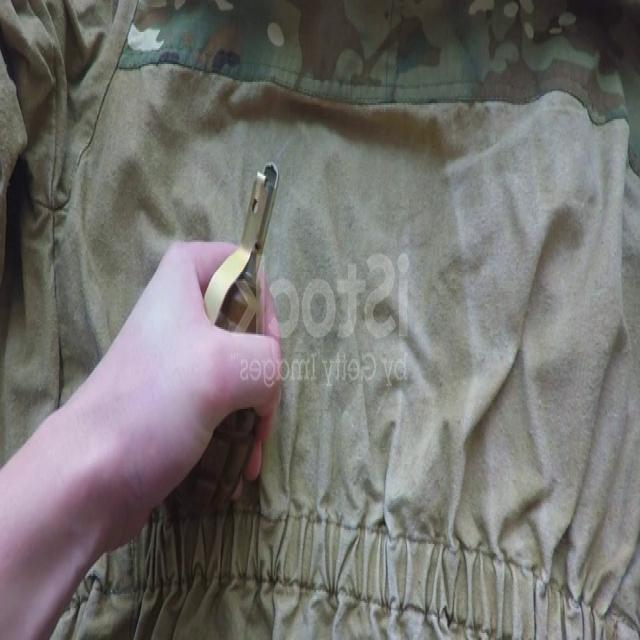grenade: (169, 159, 287, 511)
